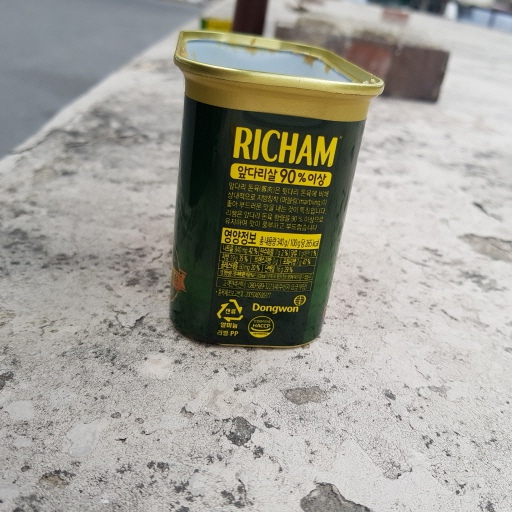Metal_2: (164, 26, 385, 355)
